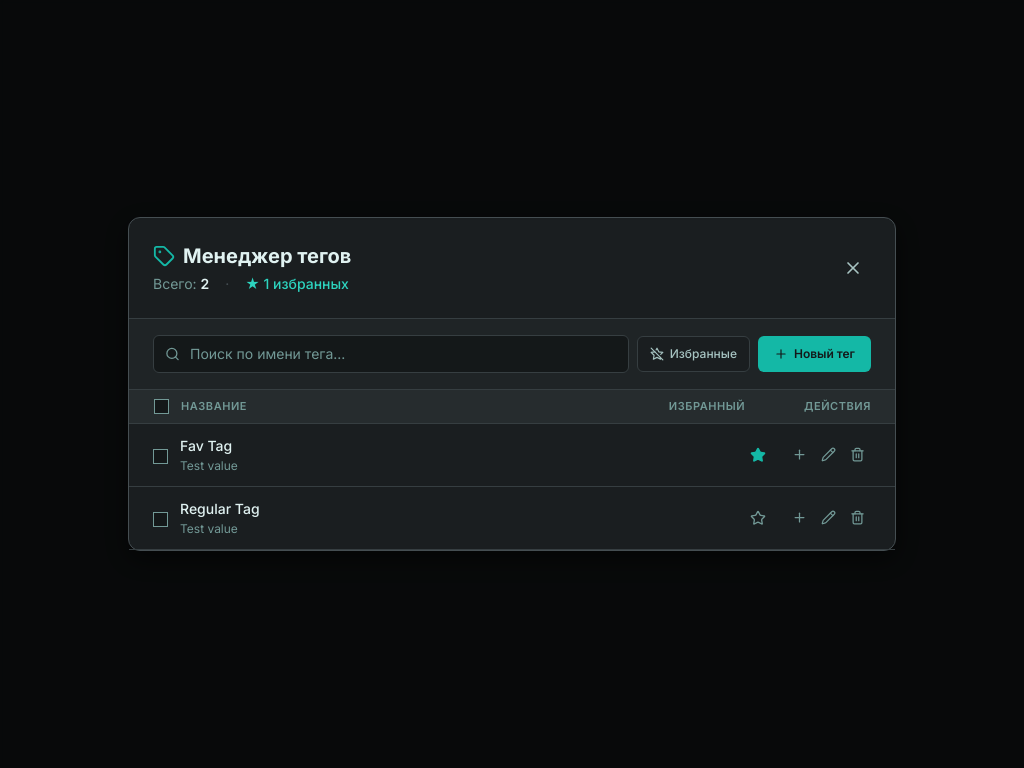
Test: TagManagerModal › Фильтр по избранным › показывает только избранные теги при активном фильтре
Check: the text "Fav Tag" is shown, box [180,437,232,454]
Check: the text "Regular Tag" is shown, box [180,500,260,517]
Click the button "Избранные" at (693, 354), box [637,336,750,372]
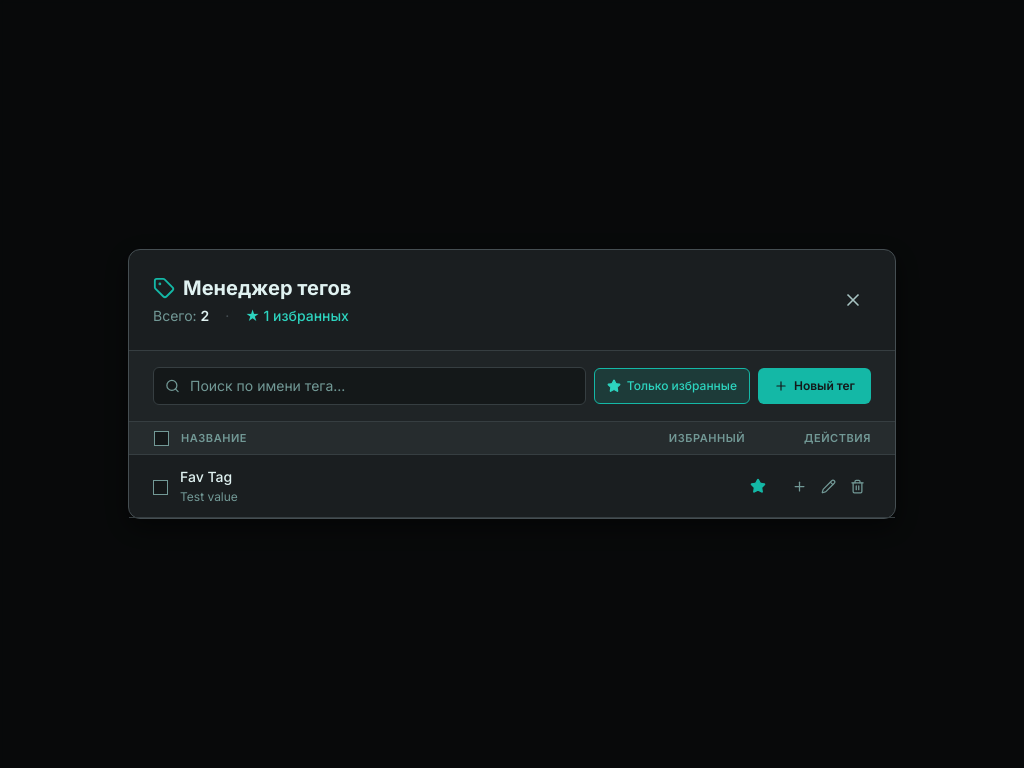
Check: the text "Fav Tag" is shown, box [180,468,232,485]
Check: the text "Regular Tag" is gone
